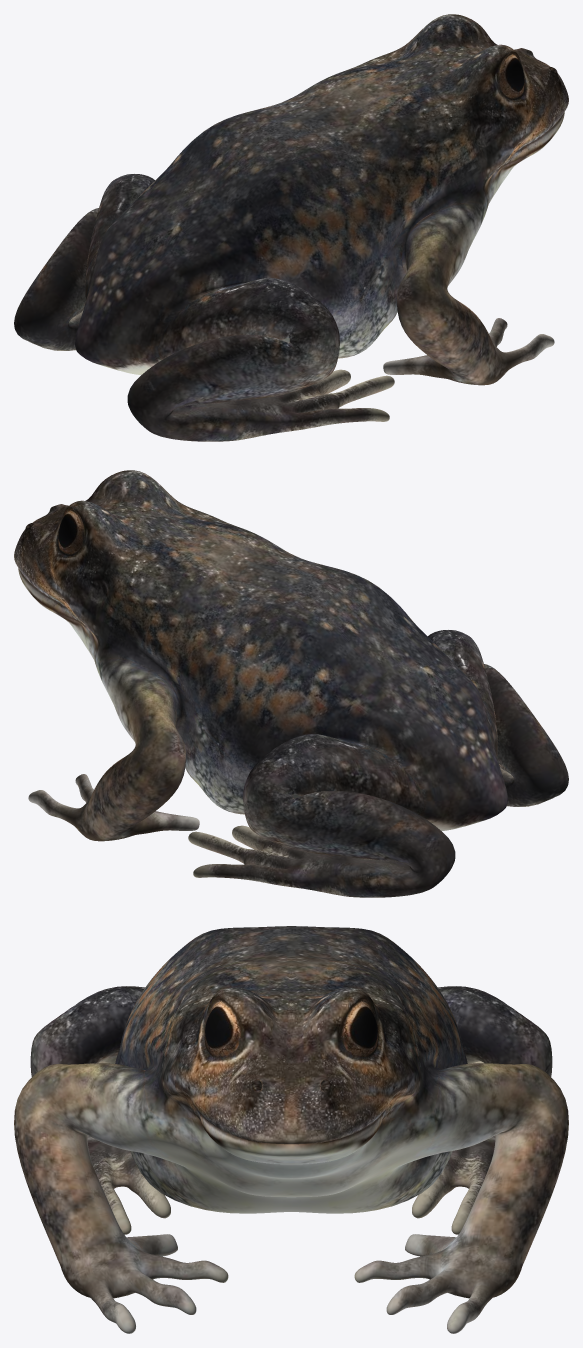
The model's file is katak-banjo.glb.
3 views of the same model, one above another, from view 1: azimuth 30°, elevation 25°; view 2: azimuth 150°, elevation 25°; view 3: azimuth 270°, elevation 25° (orthographic). The views are drawn at different scales.
Parts seen in each view (by area): view 1: 12268_banjofrog_v1_L3; view 2: 12268_banjofrog_v1_L3; view 3: 12268_banjofrog_v1_L3.
Boxes of the visible parts, x1,y1,x2,y2 form: 12268_banjofrog_v1_L3: [14, 14, 568, 441]; 12268_banjofrog_v1_L3: [14, 470, 568, 897]; 12268_banjofrog_v1_L3: [14, 926, 568, 1333].
Bounding box in the file's own units: 7.77 × 4.2 × 6.16.
Materials: 1 (1 with a texture image).
